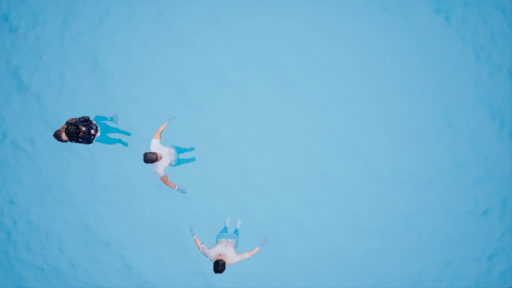person: (140, 115, 205, 194), (190, 217, 274, 276), (47, 111, 134, 155)
